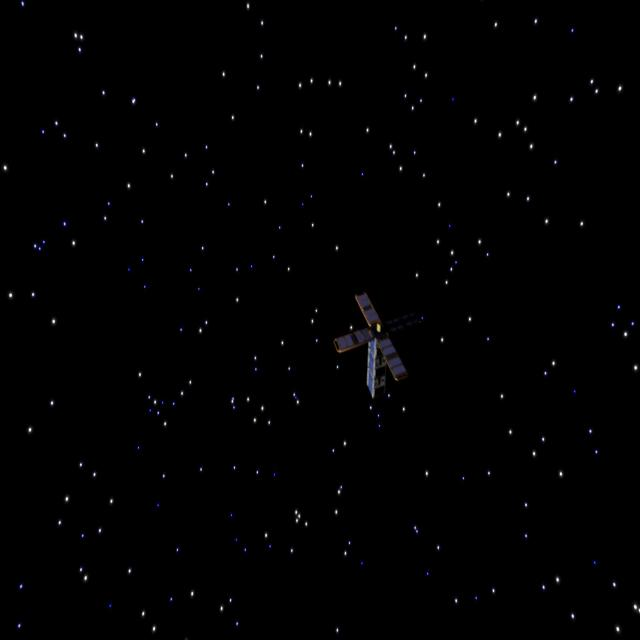medium_debris: (321, 292, 422, 411)
